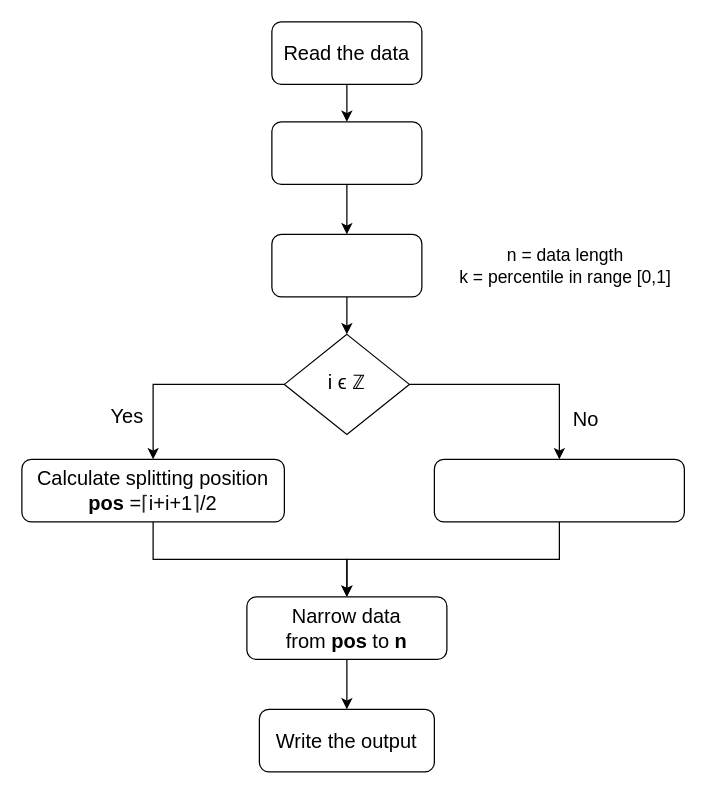
The diagram is 706 pixels wide and 794 high, and some of its shapes have lost their labels. The centre of each missing label's shape, as x and y in pixels:
Calculate i i = n · k: the point at 346,265
Calculate splitting position pos = ⌈ i ⌉: the point at 558,490
Sort the data ascending: the point at 346,152
